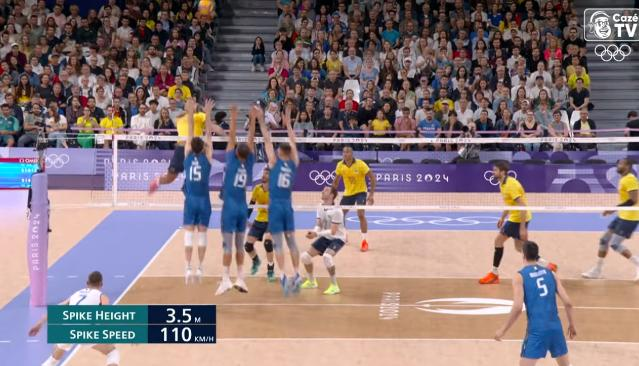Levantador: (250, 168, 272, 270)
Libero: (40, 270, 118, 364), (305, 183, 348, 296)
bola: (197, 0, 215, 18)
